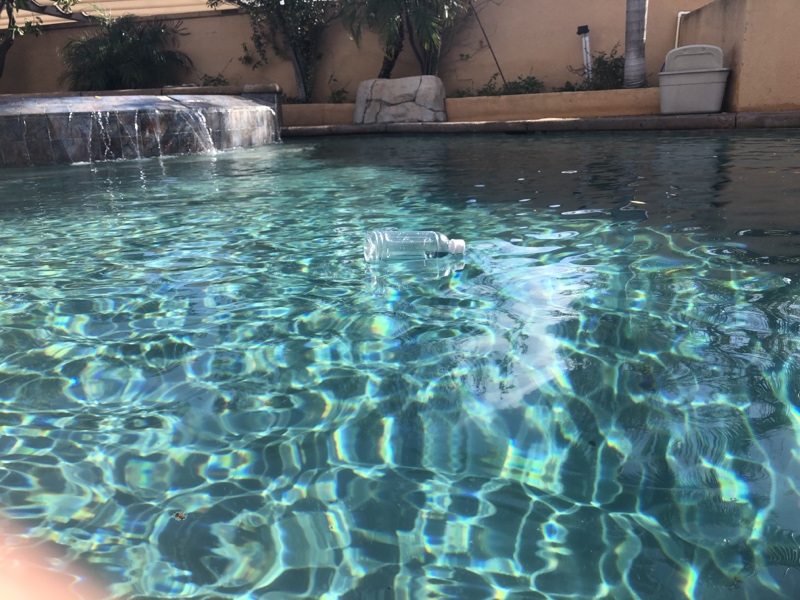Plastic Bottle: (357, 225, 469, 266)
